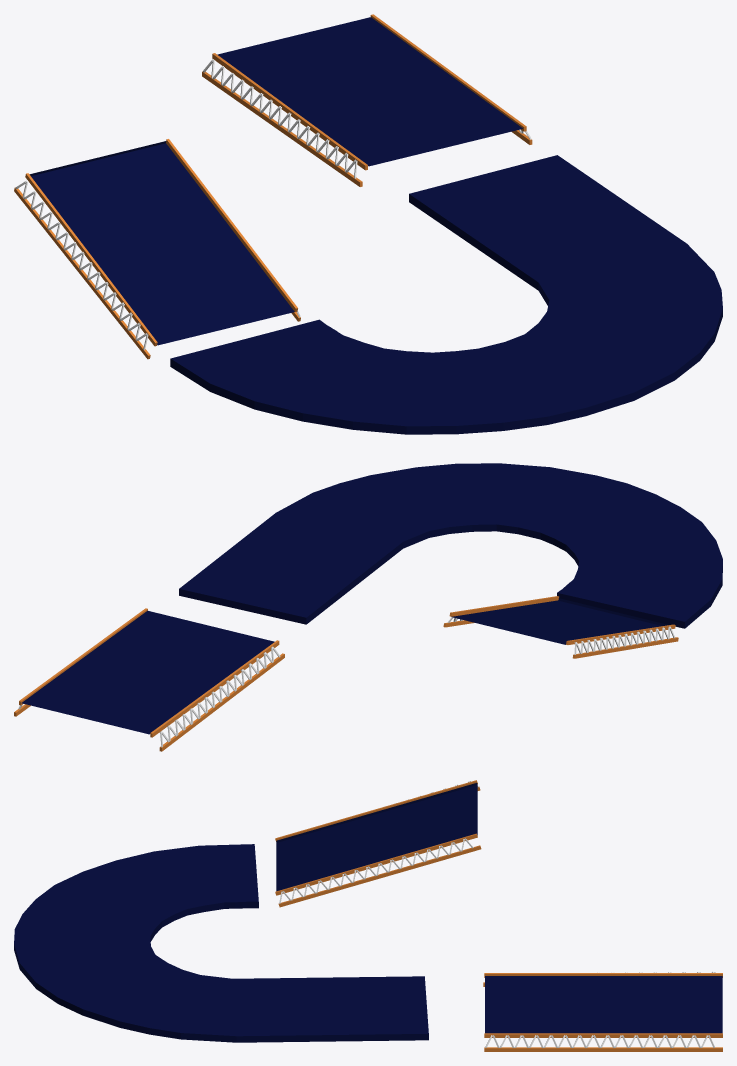
File: platforma11.fbx
3 renders of one model, top to bottom at view 1: azimuth 30°, elevation 25°; view 2: azimuth 150°, elevation 25°; view 3: azimuth 270°, elevation 25°, orthographic. The views are drawn at different scales.
Visible parts, largest first — view 1: Plane.025, Plane.024, Plane.023, Cube.046, Cube.029, Cube.011, Cube.047, Cube.065, Cube.010; view 2: Plane.025, Plane.023, Plane.024, Cube.011, Cube.029, Cube.010, Cube.046, Cube.065, Cube.047; view 3: Plane.025, Plane.023, Plane.024, Cube.012, Cube.010, Cube.048, Cube.046, Cube.011, Cube.047.
Part boxes in pixels (bbox=[...]): Plane.025: bbox=[170, 155, 722, 434]; Plane.024: bbox=[29, 141, 294, 345]; Plane.023: bbox=[217, 17, 522, 166]; Cube.046: bbox=[166, 139, 297, 311]; Cube.029: bbox=[202, 71, 362, 186]; Cube.011: bbox=[212, 53, 367, 170]; Cube.047: bbox=[25, 173, 157, 346]; Cube.065: bbox=[14, 187, 150, 359]; Cube.010: bbox=[370, 14, 526, 131]; Plane.025: bbox=[179, 463, 722, 628]; Plane.023: bbox=[21, 610, 274, 734]; Plane.024: bbox=[451, 598, 668, 644]; Cube.011: bbox=[150, 640, 279, 737]; Cube.029: bbox=[159, 653, 284, 751]; Cube.010: bbox=[19, 608, 147, 705]; Cube.046: bbox=[449, 596, 558, 616]; Cube.065: bbox=[572, 637, 678, 658]; Cube.047: bbox=[566, 624, 675, 644]; Plane.025: bbox=[14, 844, 428, 1042]; Plane.023: bbox=[485, 976, 722, 1033]; Plane.024: bbox=[276, 783, 477, 891]; Cube.012: bbox=[484, 1047, 722, 1051]; Cube.010: bbox=[484, 1033, 722, 1037]; Cube.048: bbox=[278, 845, 481, 907]; Cube.046: bbox=[275, 833, 477, 895]; Cube.011: bbox=[484, 973, 722, 977]; Cube.047: bbox=[275, 780, 477, 841].
Bounding box in the file's own units: 4752 × 865 × 7186.
